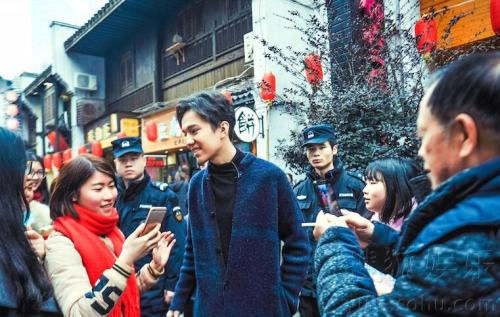no_mask: (413, 59, 498, 191), (51, 155, 119, 219), (172, 95, 235, 164), (362, 158, 410, 215), (299, 126, 339, 171), (109, 137, 148, 183), (22, 147, 45, 192)
